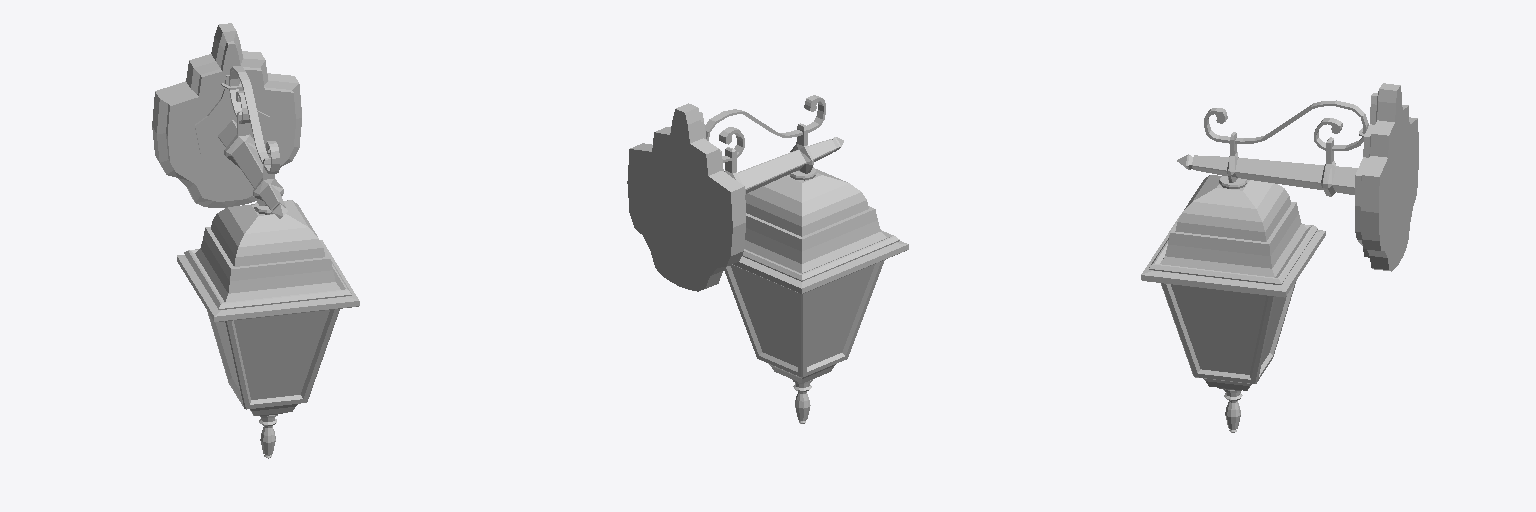
File: Lanter_OBJ.obj
The picture shows the model from 3 angles: view 1: azimuth 30°, elevation 25°; view 2: azimuth 150°, elevation 25°; view 3: azimuth 270°, elevation 25°; orthographic projection.
Parts seen in each view (by area): view 1: Box02; view 2: Box02; view 3: Box02.
Boxes of the visible parts, <box> form: Box02: <box>152,23,359,458</box>; Box02: <box>627,95,908,423</box>; Box02: <box>1141,83,1418,432</box>.
Bounding box in the file's own units: 683 × 1302 × 903.